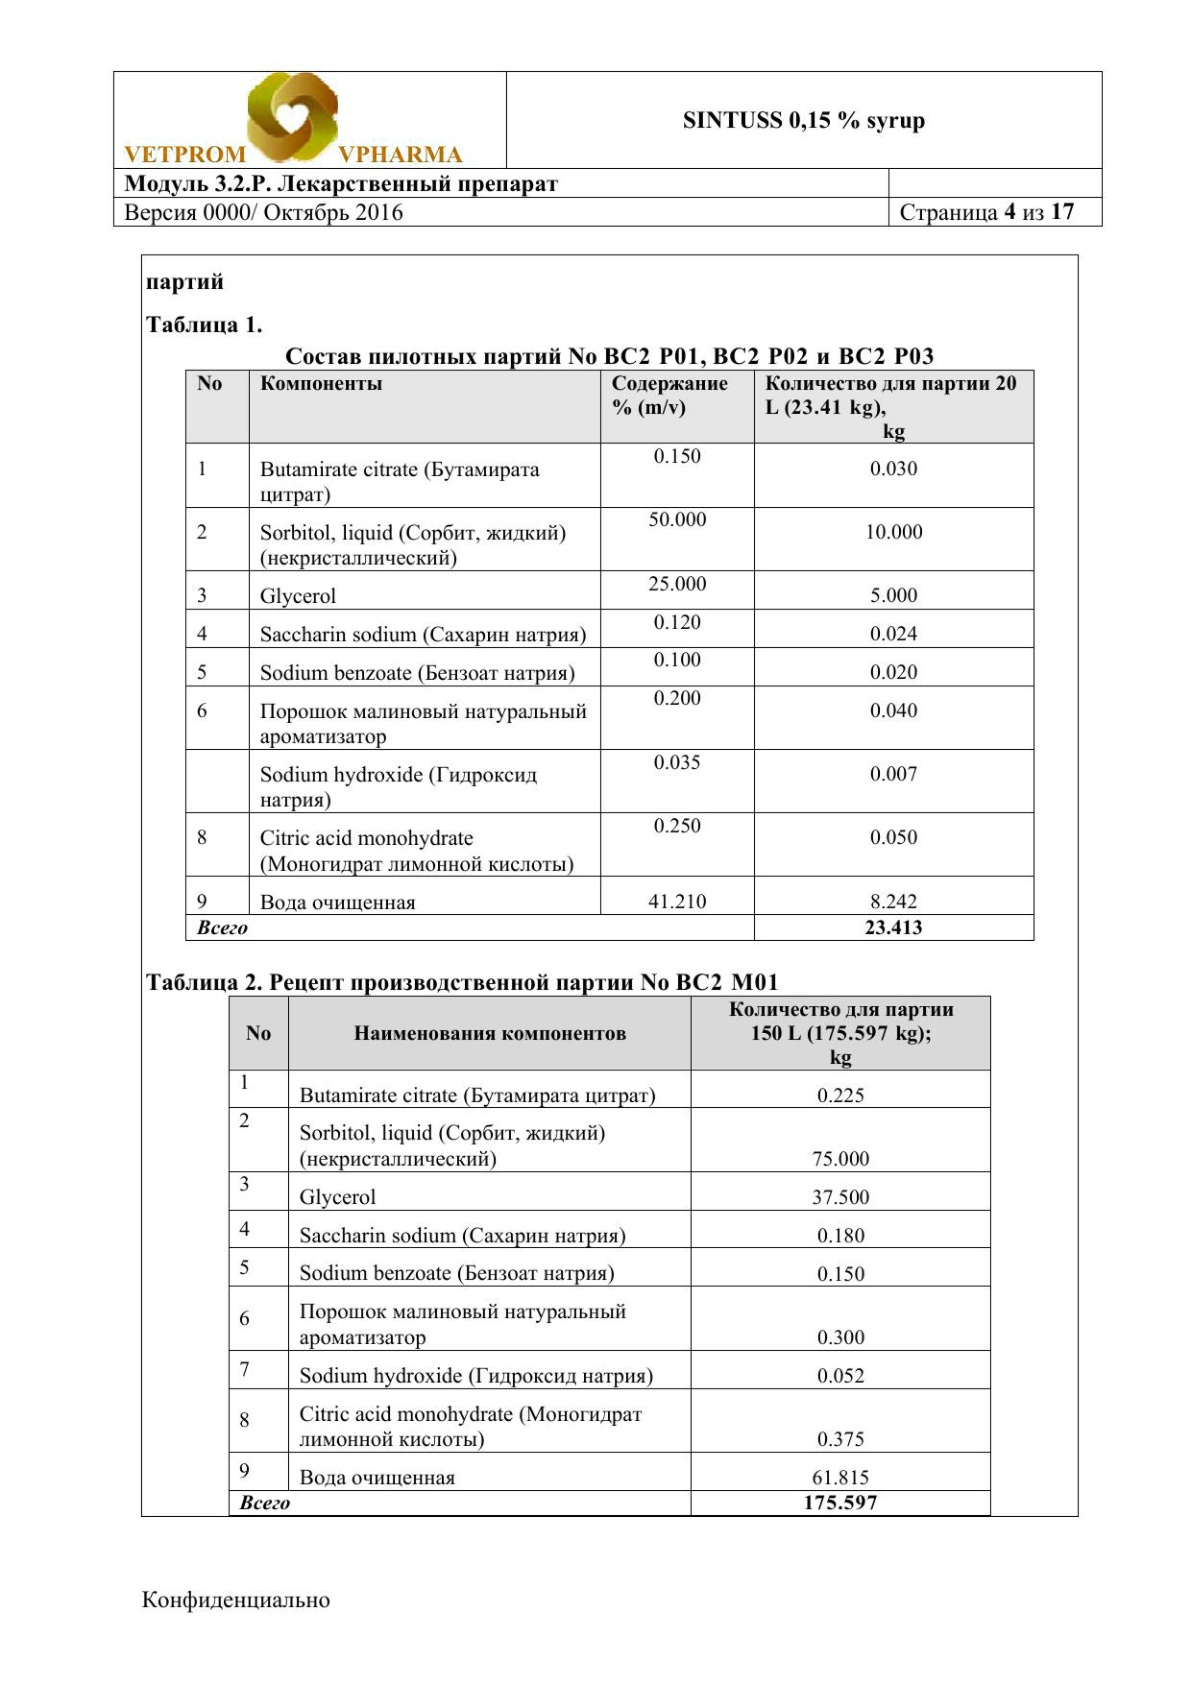full_lined: (183, 368, 1036, 942), (226, 993, 992, 1517)
merged_cells: (111, 68, 1103, 228)
